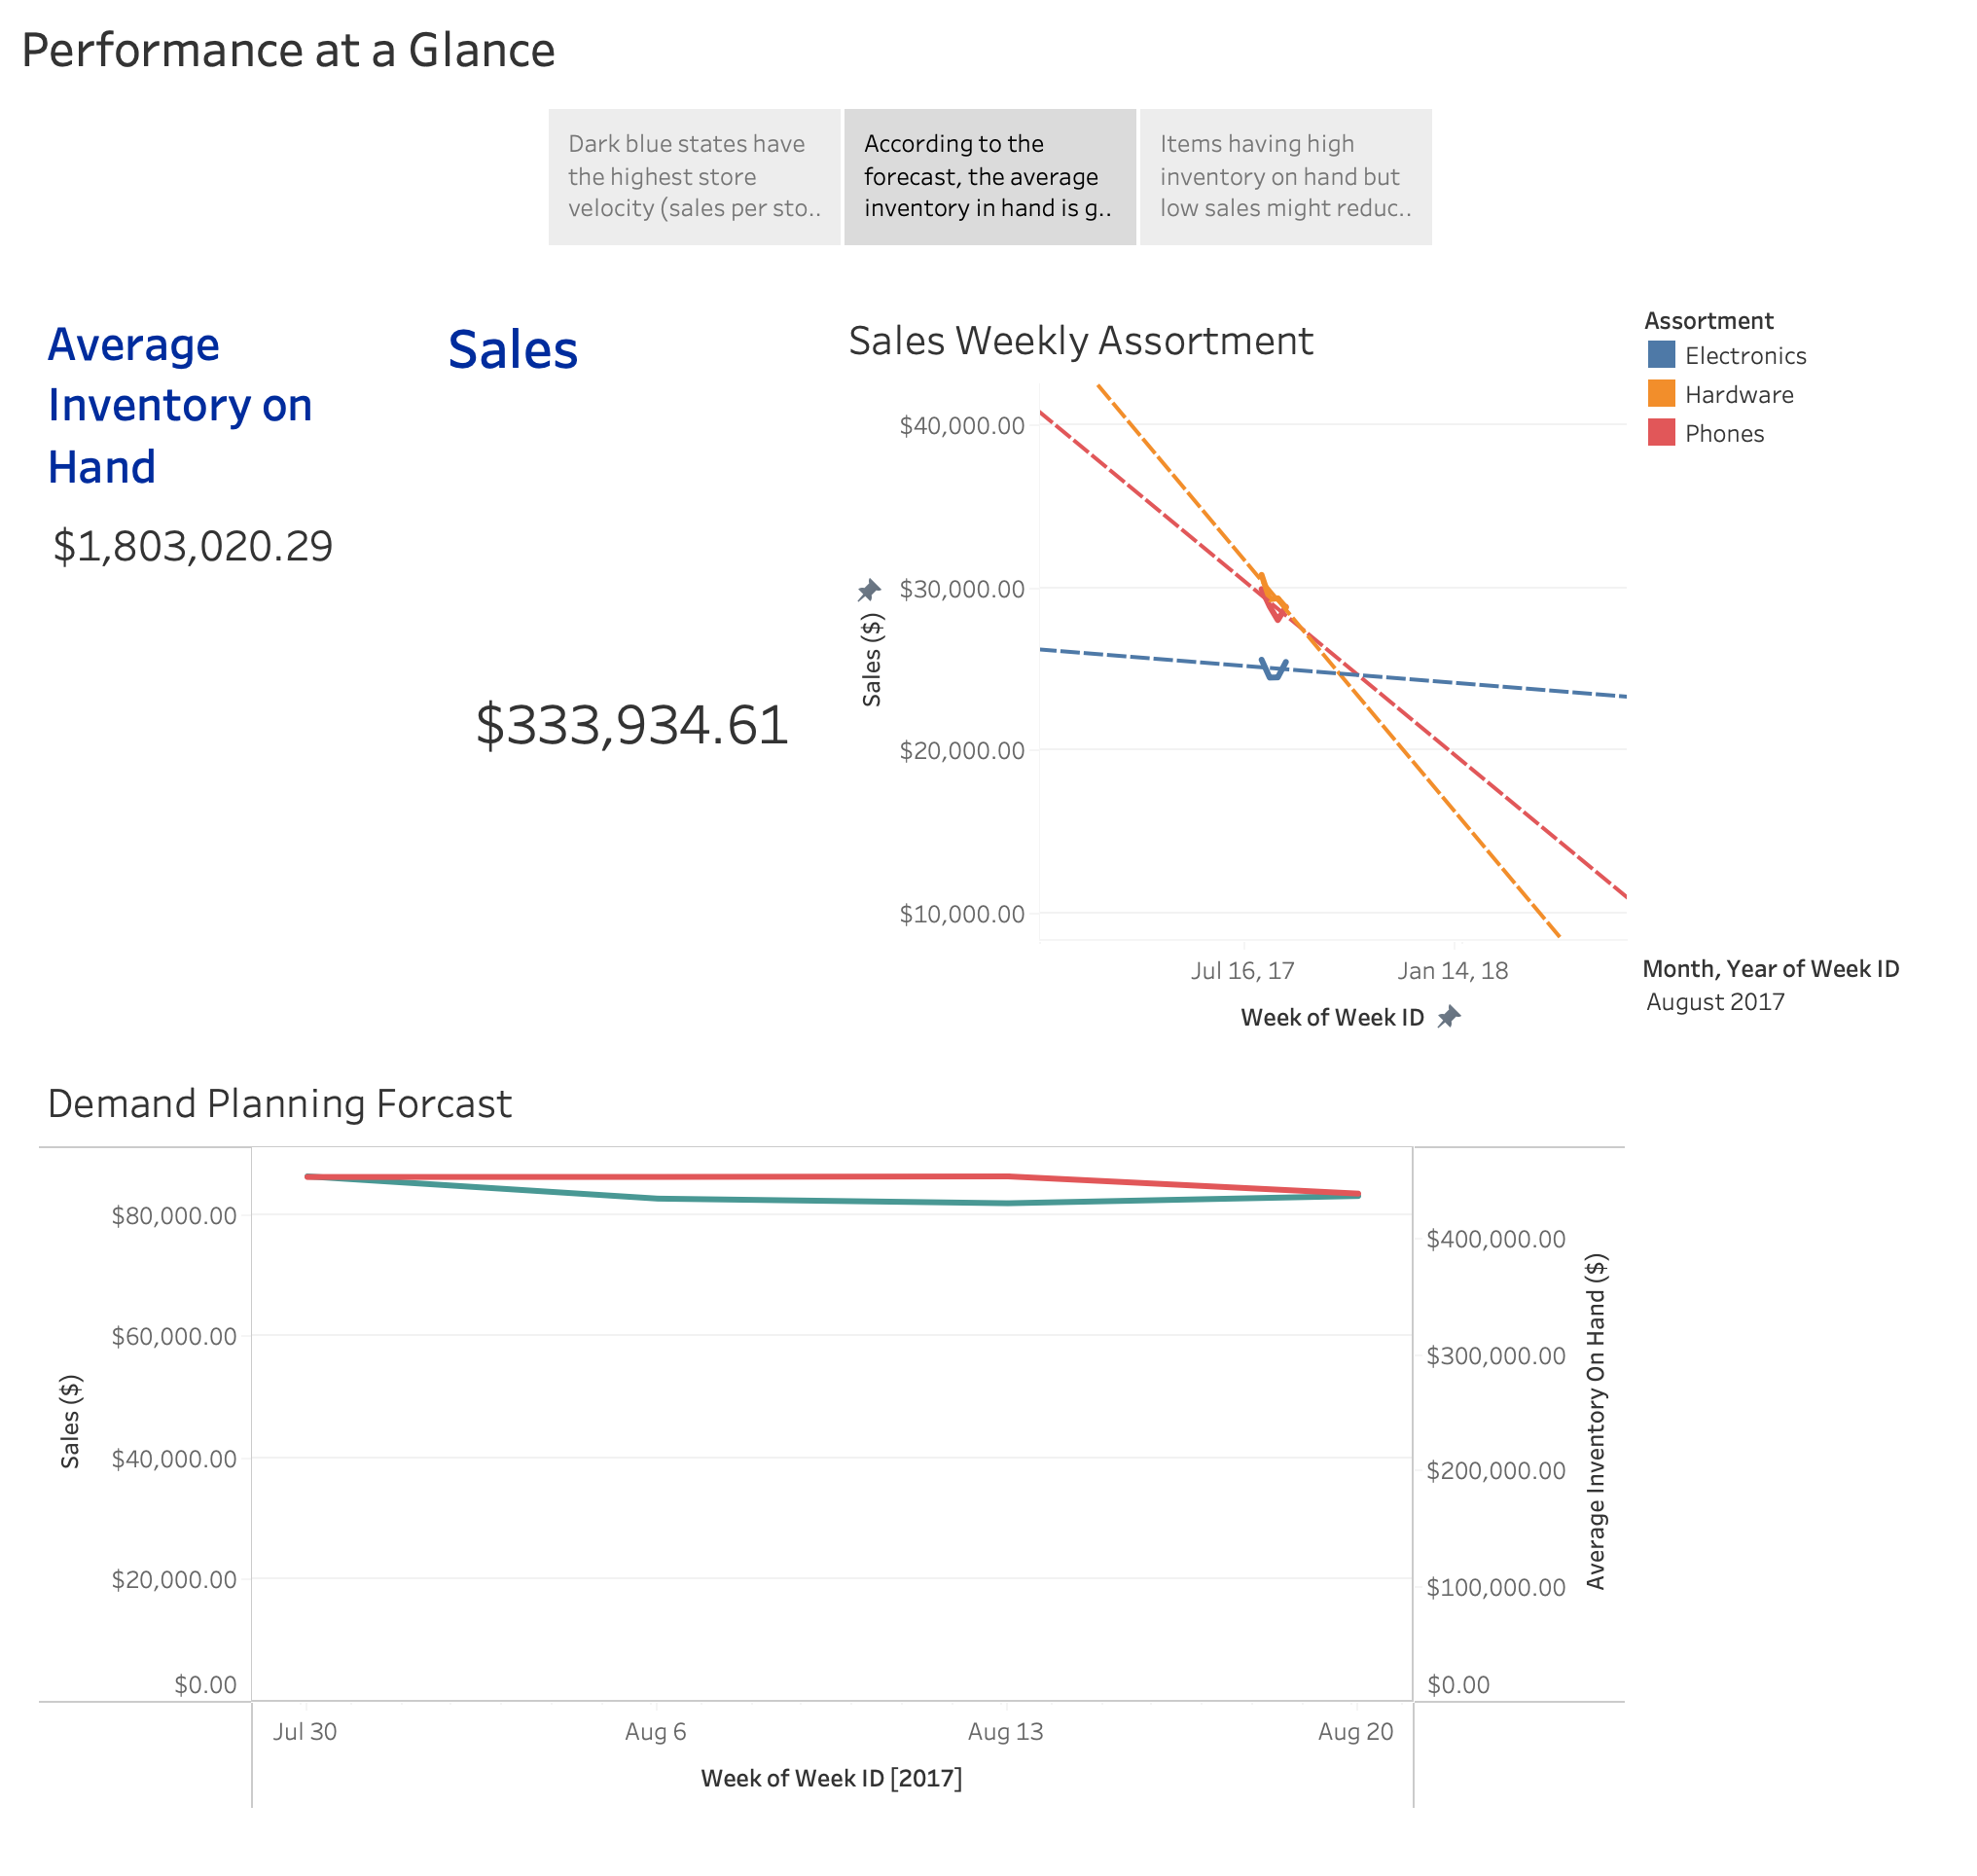

The dashboard page shown, as its layout file describes it:
{"tool":"tableau","page":{"name":"Weekly Dash + Forcast","canvas":[1000,800],"ordinal":2},"visuals":[{"type":"worksheet","title":"Average Inventory on Hand","mark":"Automatic","box":[8,8,206,392]},{"type":"worksheet","title":"Sales","mark":"Automatic","box":[214,8,206,392]},{"type":"worksheet","title":"Sales Weekly Assortment","mark":"Automatic","rows":["Sales ($)"],"cols":["Week ID"],"box":[420,8,412,392]},{"type":"legend","title":"Sales Weekly Assortment","param":"[federated.14cjw921thnt6q15we8bi1tz5f0t].[none:Assortment:nk]","box":[832,8,160,86]},{"type":"legend","title":"Demand Planning Forcast","param":"[federated.14cjw921thnt6q15we8bi1tz5f0t].[:Measure Names]\n[federated.14cjw921thn","box":[832,94,160,22]},{"type":"filter","title":"Sales Weekly Assortment","param":"[federated.14cjw921thnt6q15we8bi1tz5f0t].[my:Week ID:ok]","box":[836,346,168,75]},{"type":"worksheet","title":"Demand Planning Forcast","mark":"Automatic","rows":["Sales ($)","Average Inventory On Hand ($)"],"cols":["Week ID"],"box":[8,400,824,392]}]}

Visuals, with their boxes on the page's 1000x800 design canvas (x1, y1, x2, y2). These are canvas units, not pixel positions in the 1977x1876 screenshot, which may show the page scaled, cropped or inside an application window:
"Average Inventory on Hand" worksheet: [left=8, top=8, right=214, bottom=400]
"Sales" worksheet: [left=214, top=8, right=420, bottom=400]
"Sales Weekly Assortment" worksheet: [left=420, top=8, right=832, bottom=400]
"Sales Weekly Assortment" legend: [left=832, top=8, right=992, bottom=94]
"Demand Planning Forcast" legend: [left=832, top=94, right=992, bottom=116]
"Sales Weekly Assortment" filter: [left=836, top=346, right=1004, bottom=421]
"Demand Planning Forcast" worksheet: [left=8, top=400, right=832, bottom=792]
